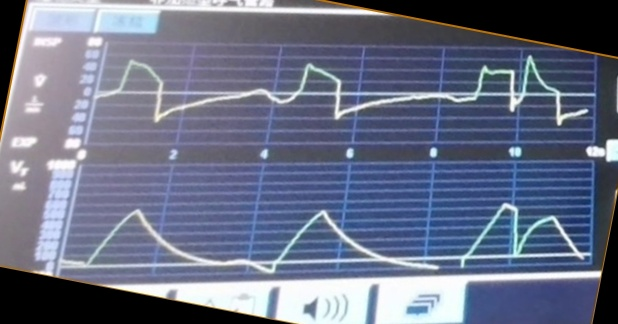Double_Triggering Flow: (108, 51, 578, 139)
Double_Triggering Volume: (76, 194, 583, 275)
